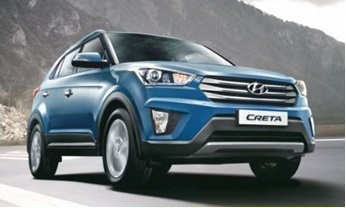CRETA: (237, 109, 288, 126)
